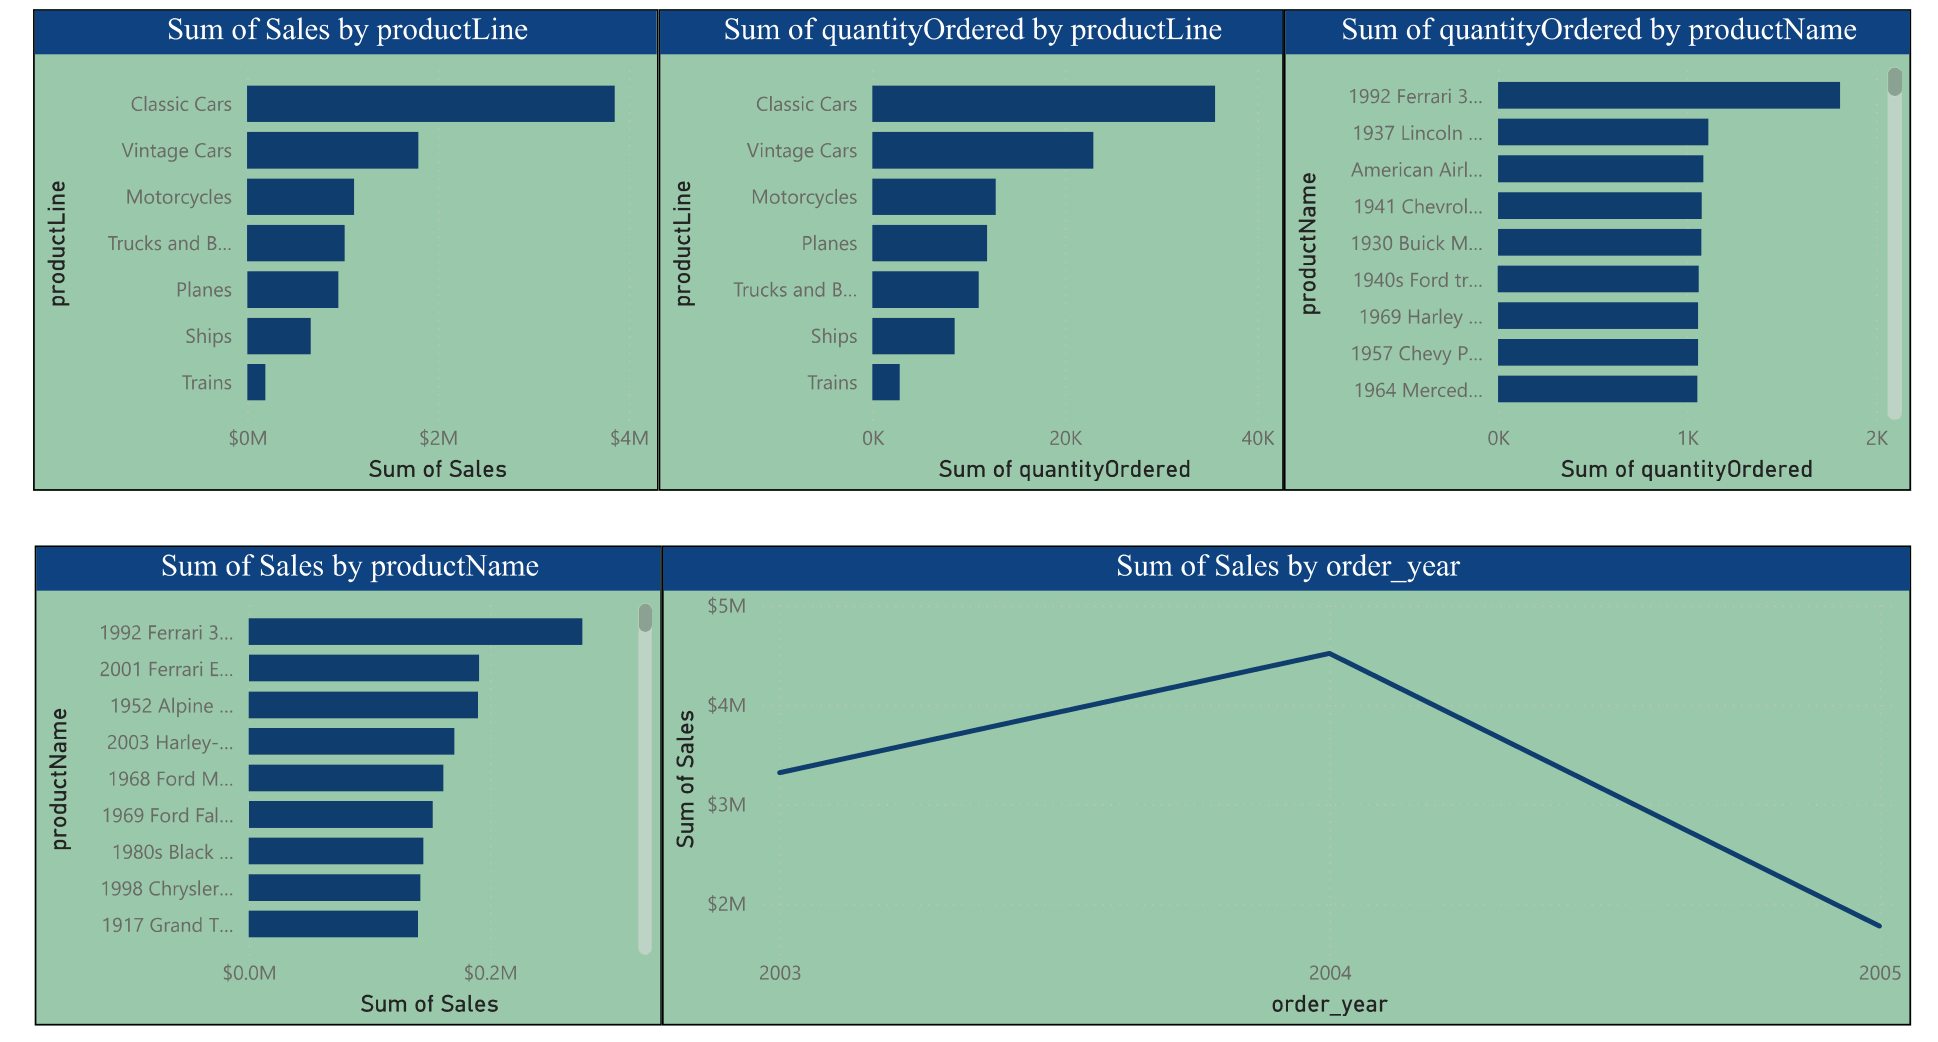

Layout of this report page (visuals, bound fields, positions):
{"tool":"powerbi","page":{"name":"Page 2","canvas":[1280,720],"ordinal":2},"visuals":[{"type":"actionButton","box":[0,0,66.4,71.2],"z":0},{"type":"barChart","fields":{"Category":["productlines.productLine"],"Y":["Sum(order_details.Sales)"]},"box":[124.7,19.4,377.3,289.8],"z":1000},{"type":"barChart","fields":{"Category":["productlines.productLine"],"Y":["Sum(order_details.quantityOrdered)"]},"box":[502,19.4,377.3,289.8],"z":2000},{"type":"barChart","fields":{"Y":["Sum(order_details.quantityOrdered)"],"Category":["products.productName"]},"box":[879.2,19.4,377.3,289.8],"z":3000},{"type":"barChart","fields":{"Y":["Sum(order_details.Sales)"],"Category":["products.productName"]},"box":[126.3,341.7,377.3,289.8],"z":4000},{"type":"lineChart","fields":{"Y":["Sum(order_details.Sales)"],"Category":["orders.order_year"]},"box":[503.6,341.7,752.9,289.8],"z":5000},{"type":"actionButton","box":[1199.8,667.1,56.7,40.5],"z":6000}]}

Visuals, with their boxes on the page's 1280x720 design canvas (x1, y1, x2, y2). These are canvas units, not pixel positions in the 1938x1042 screenshot, which may show the page scaled, cropped or inside an application window:
actionButton: (left=0, top=0, right=66, bottom=71)
barChart - productlines.productLine x Sum(order_details.Sales): (left=125, top=19, right=502, bottom=309)
barChart - productlines.productLine x Sum(order_details.quantityOrdered): (left=502, top=19, right=879, bottom=309)
barChart - Sum(order_details.quantityOrdered) x products.productName: (left=879, top=19, right=1256, bottom=309)
barChart - Sum(order_details.Sales) x products.productName: (left=126, top=342, right=504, bottom=632)
lineChart - Sum(order_details.Sales) x orders.order_year: (left=504, top=342, right=1256, bottom=632)
actionButton: (left=1200, top=667, right=1256, bottom=708)
